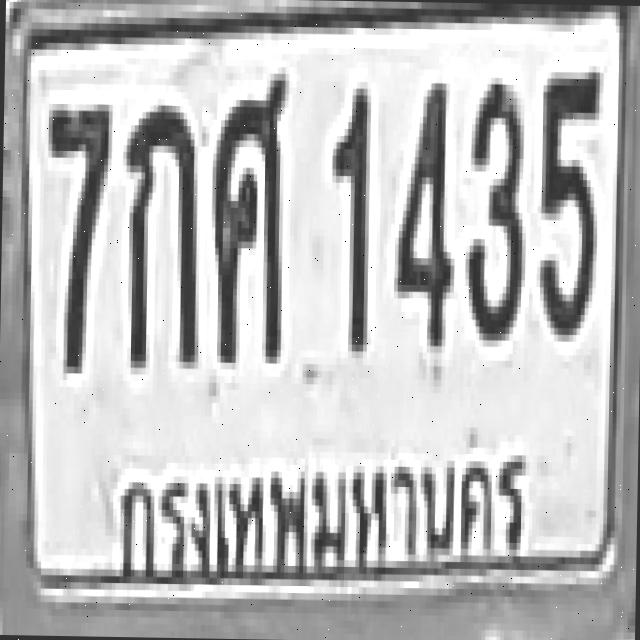1: (326, 85, 368, 348)
10GorGai: (118, 98, 198, 362)
3: (464, 77, 524, 340)
4: (392, 76, 453, 346)
47SorSala: (209, 65, 285, 356)
5: (534, 68, 600, 338)
7: (41, 96, 108, 367)
Bangkok: (95, 423, 552, 617)
